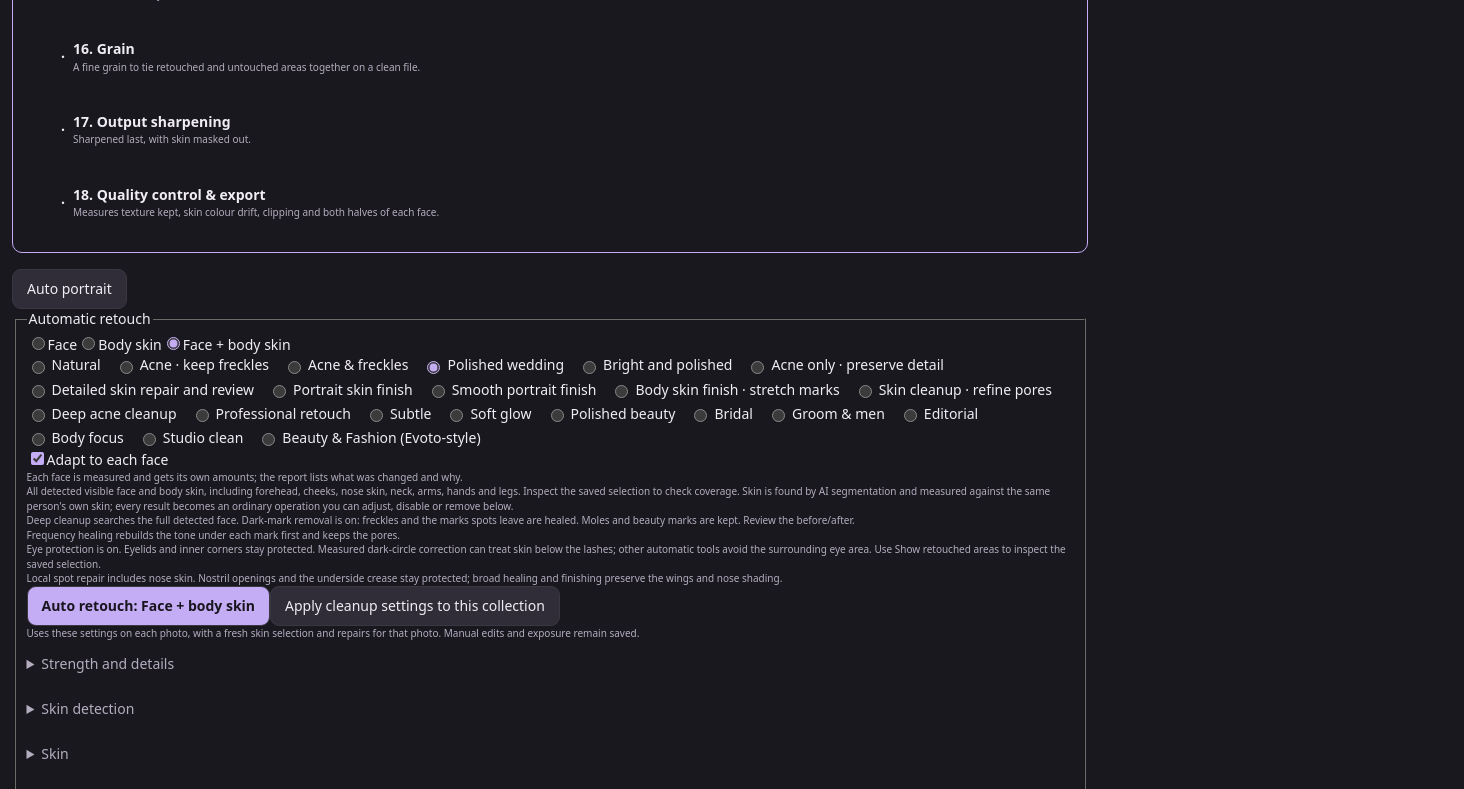
Scenario: syncs the chosen cleanup style through separate native analysis for each photo
(page scrolled)
Click the radio button labelled "Skin cleanup · refine pores" at (865, 391), box [859, 385, 872, 398]
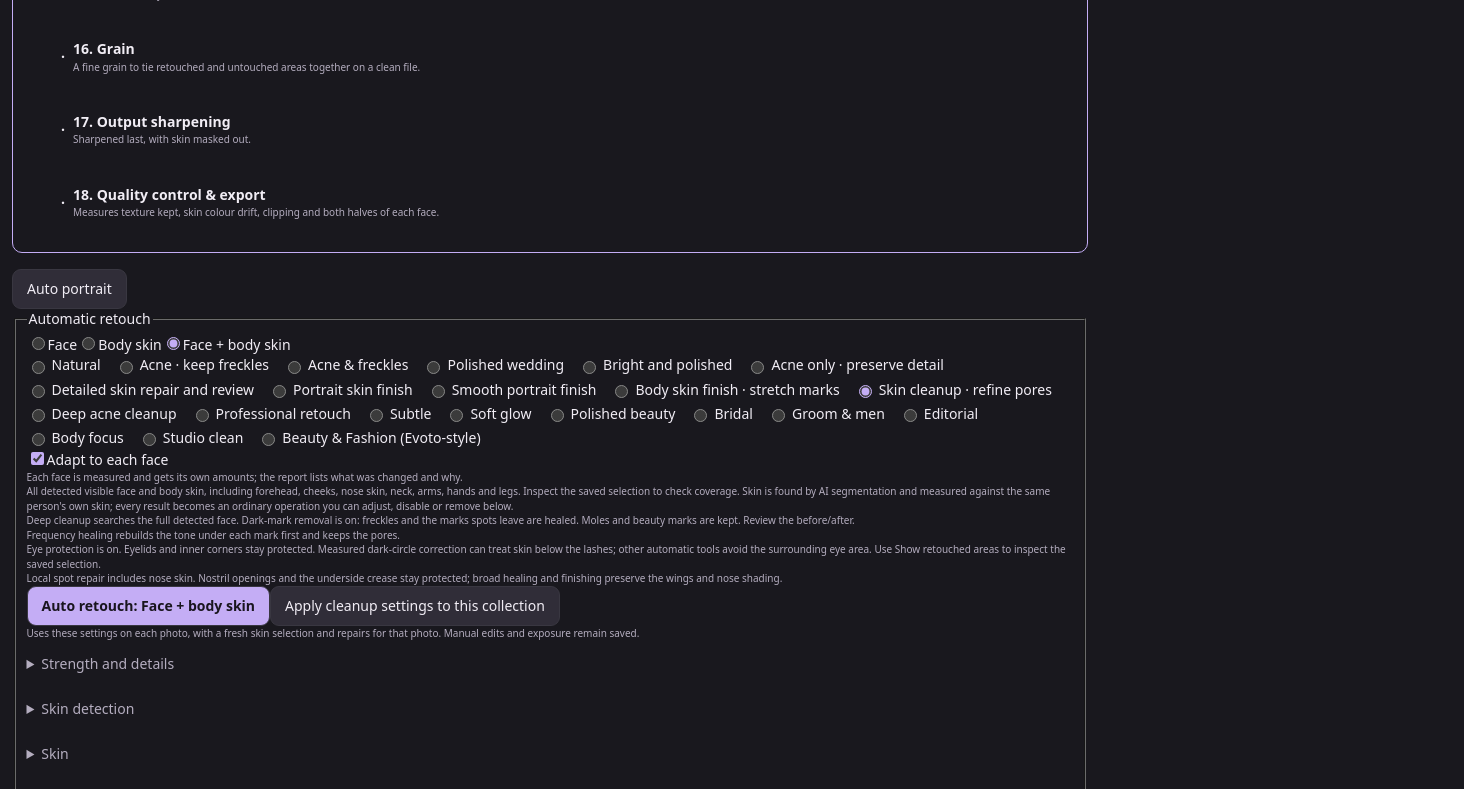
Click the button "Apply cleanup settings to this collection" at (415, 606), box [270, 586, 560, 626]
(page scrolled)
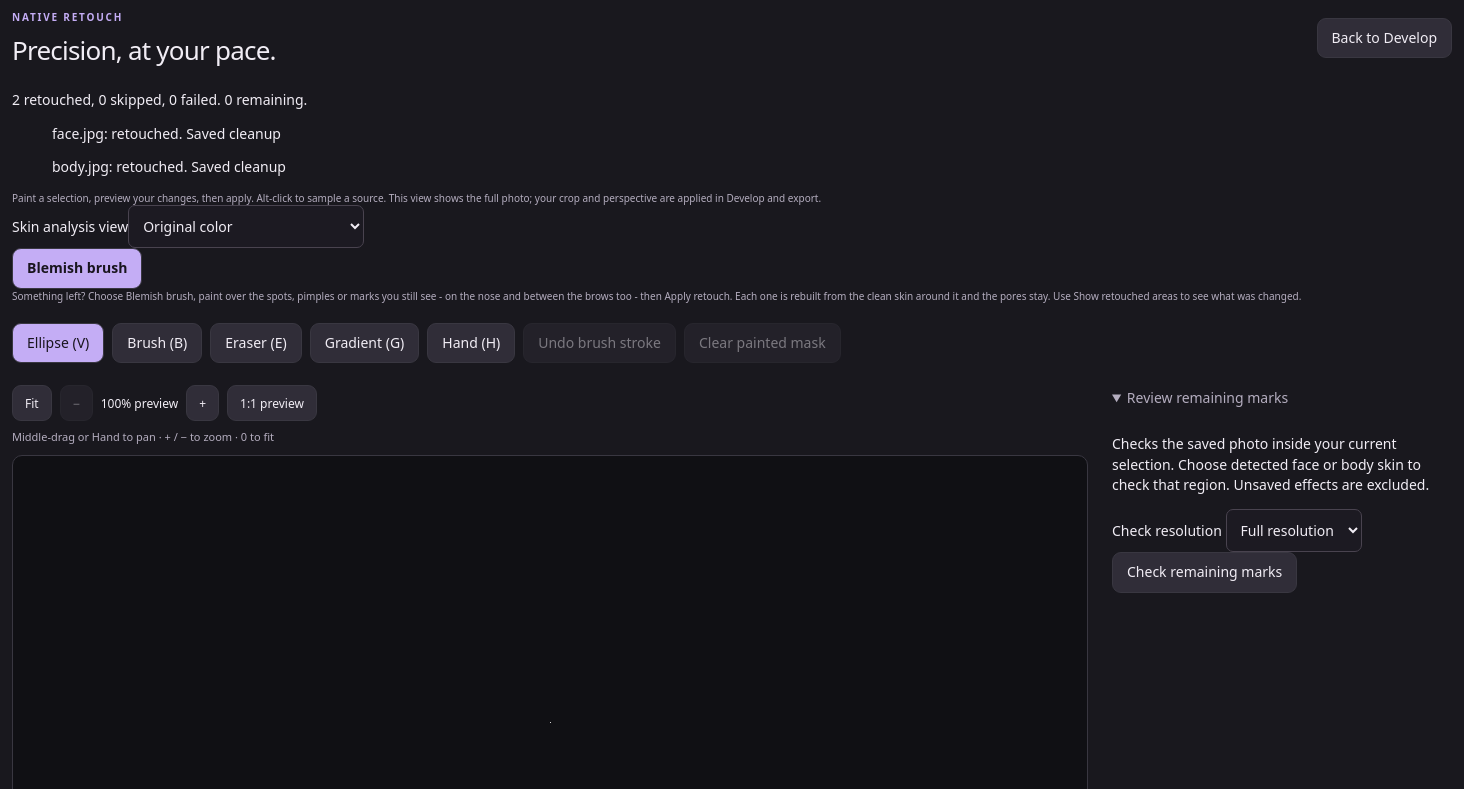
Result: the text "2 retouched, 0 skipped, 0 failed. 0 remaining." is shown at [12, 90, 307, 109]
